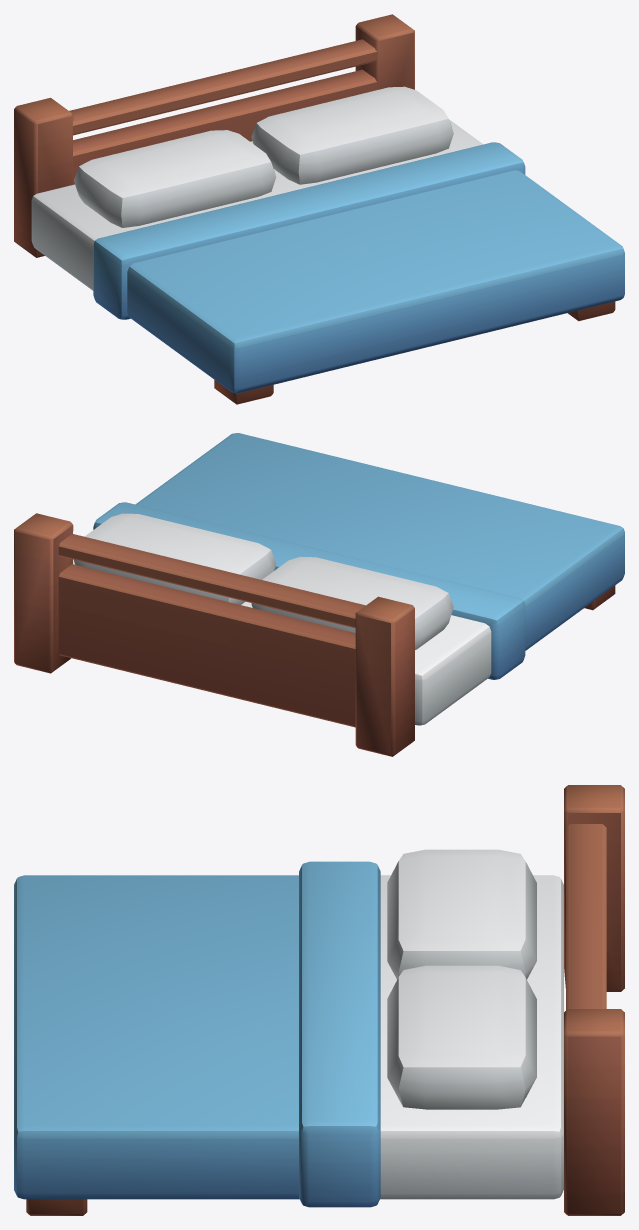
File: bed_double_A.glb
3 views of the same model, one above another, from view 1: azimuth 30°, elevation 25°; view 2: azimuth 150°, elevation 25°; view 3: azimuth 270°, elevation 25° (orthographic). The views are drawn at different scales.
Parts seen in each view (by area): view 1: bed_double_A; view 2: bed_double_A; view 3: bed_double_A.
Part boxes in pixels (left/top/right/bottom): bed_double_A: left=14, top=14, right=624, bottom=404; bed_double_A: left=14, top=433, right=624, bottom=756; bed_double_A: left=14, top=785, right=624, bottom=1215.
Bounding box in the file's own units: 3.1 × 0.9999 × 3.
1 material, 1 textured.
